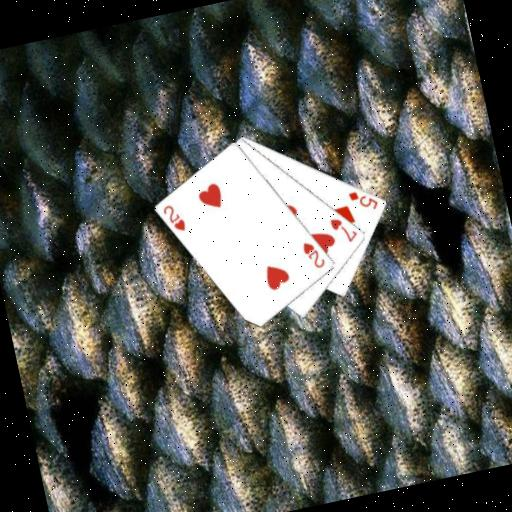2H: (158, 199, 188, 237), (298, 236, 328, 272)
5D: (345, 184, 381, 215)
7H: (326, 211, 361, 248)
